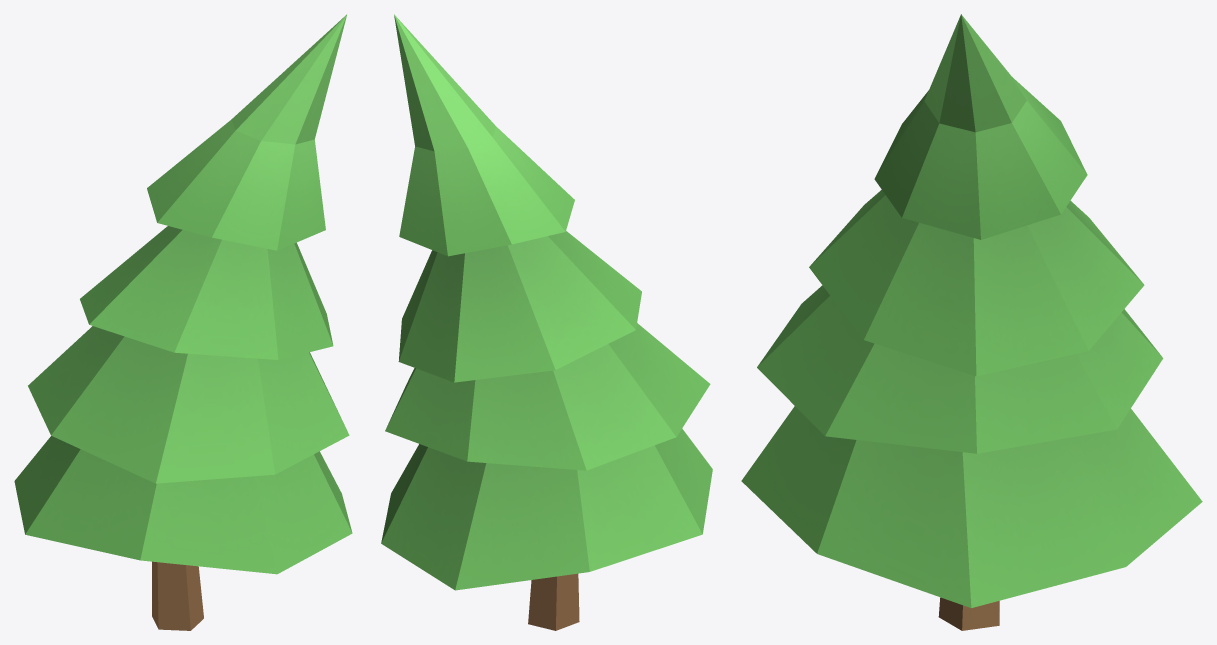
The model's file is Fir_Tree_OneSided_m_07.fbx.
3 renders of one model, left to right at view 1: azimuth 30°, elevation 25°; view 2: azimuth 150°, elevation 25°; view 3: azimuth 270°, elevation 25°, orthographic. The views are drawn at different scales.
Parts seen in each view (by area): view 1: Fir_Tree_OneSided_m_07; view 2: Fir_Tree_OneSided_m_07; view 3: Fir_Tree_OneSided_m_07.
Part boxes in pixels (x1,y1,x2,y2): Fir_Tree_OneSided_m_07: (14,14,352,630); Fir_Tree_OneSided_m_07: (381,14,712,630); Fir_Tree_OneSided_m_07: (741,14,1202,630).
Size of the model in its own units: 409 by 701 by 417.
